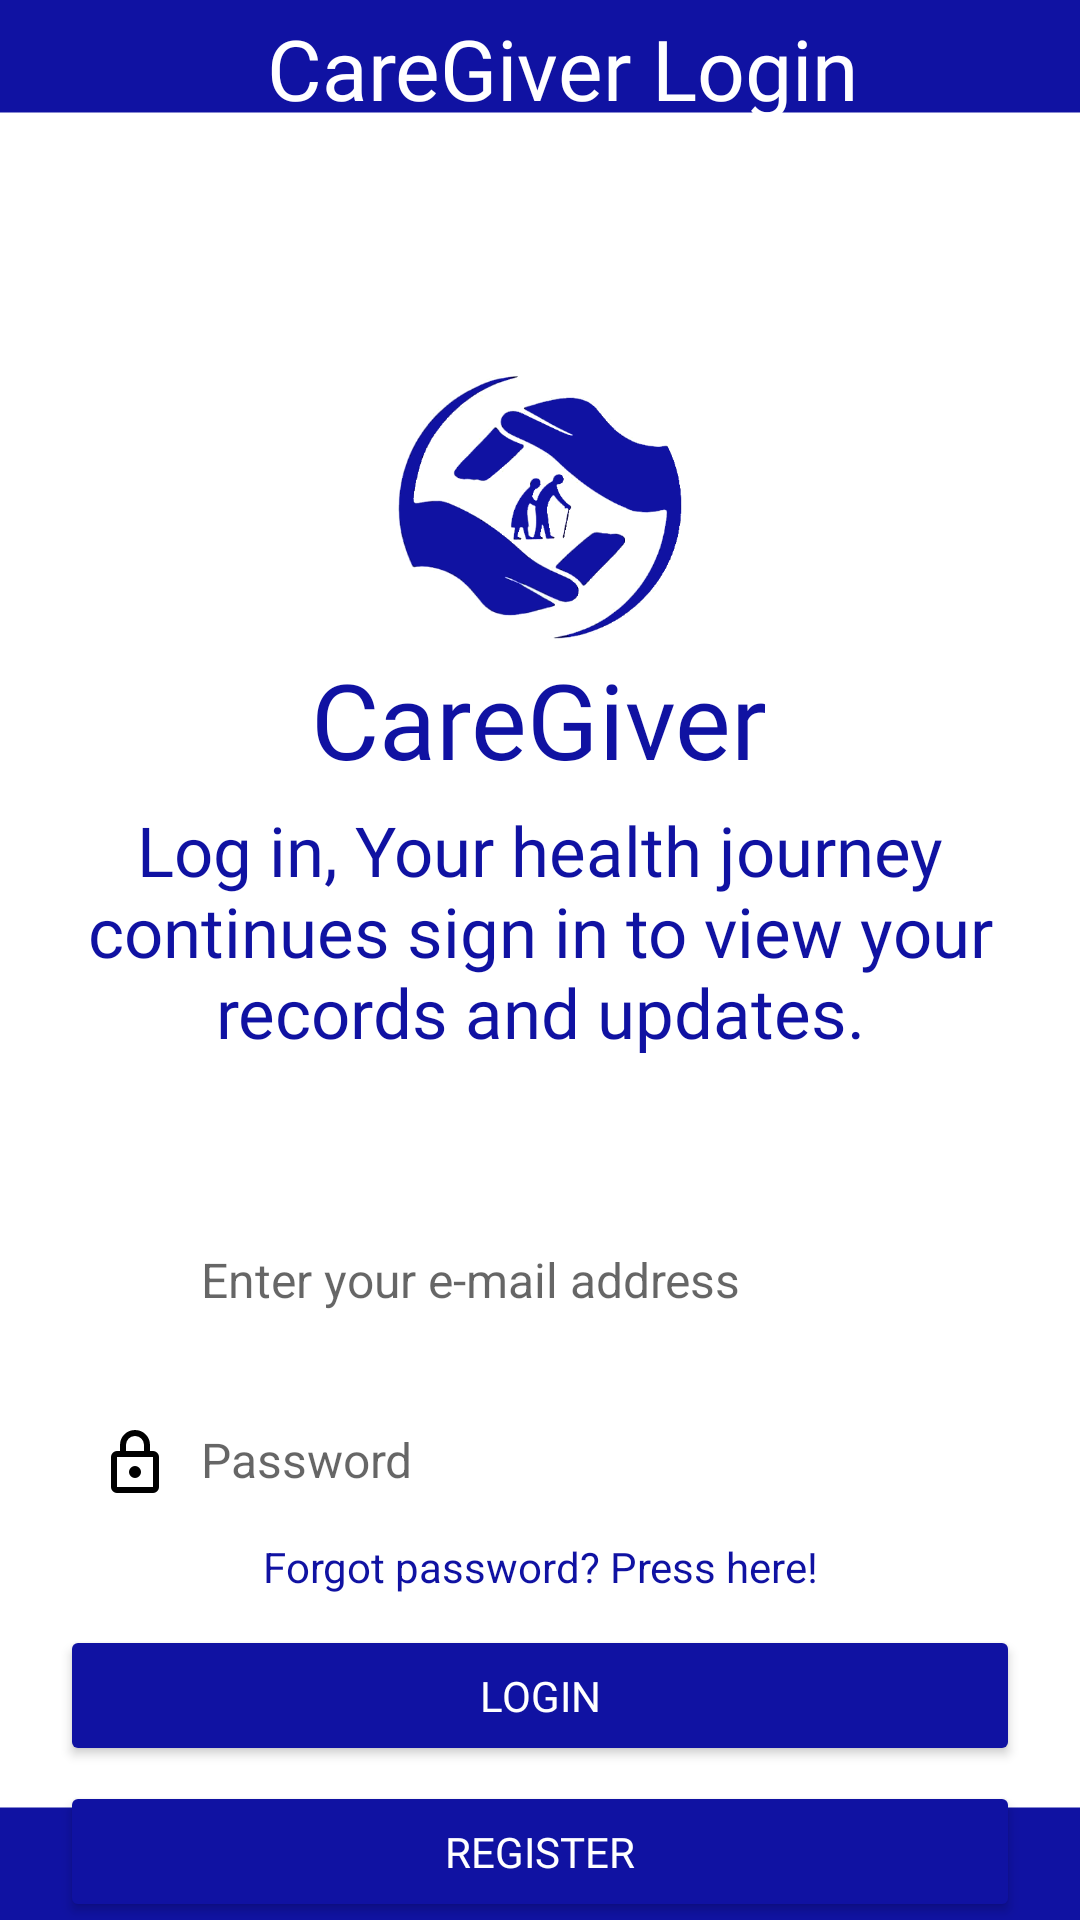

Icons on this 1080 x 1920 Android screen, each with the point to tap as (x,y):
lock: (135,1461)
